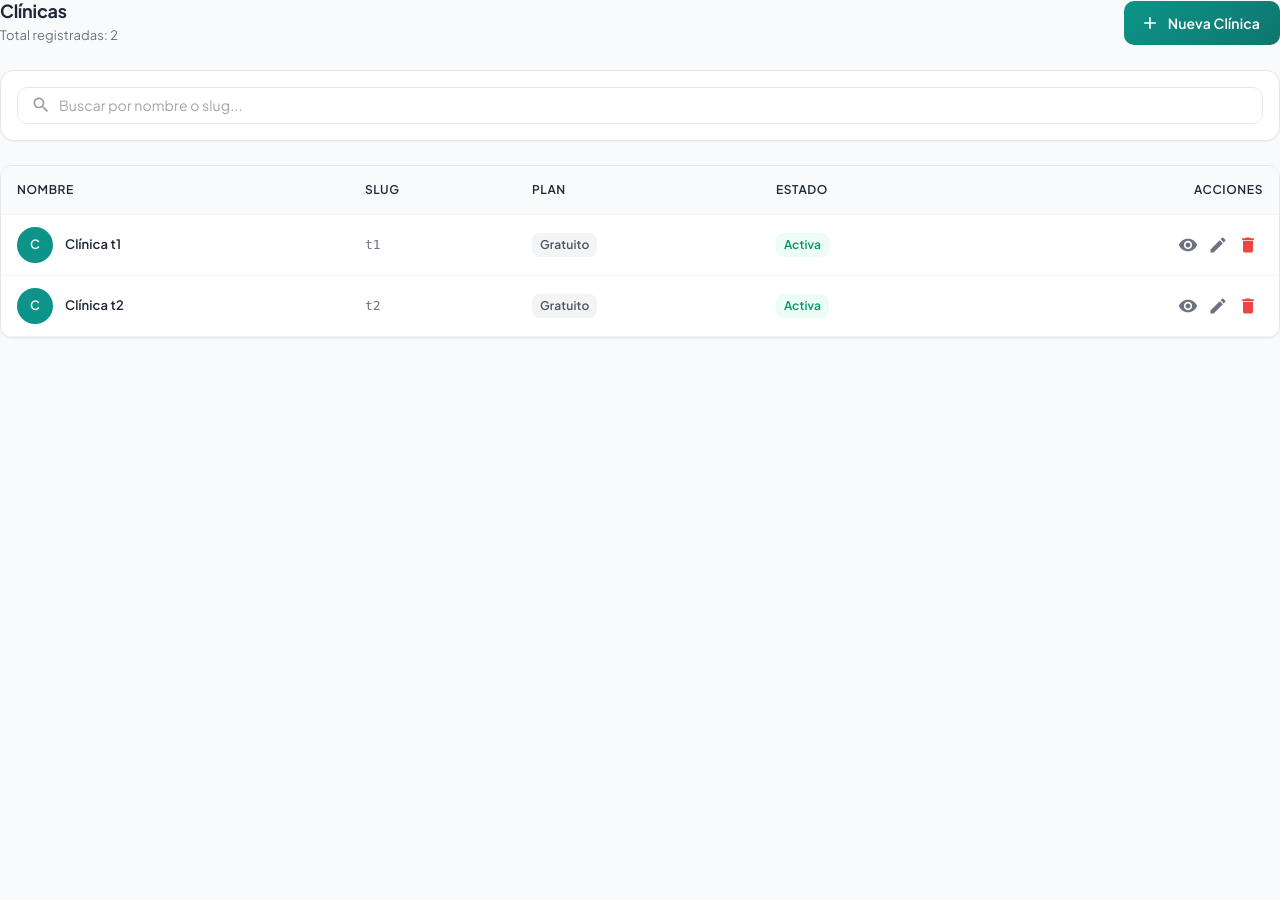
SuperAdminTenantsPage › opens the create dialog from the header button
Click the button "Nueva Clínica" at (1202, 23), box [1124, 1, 1279, 45]
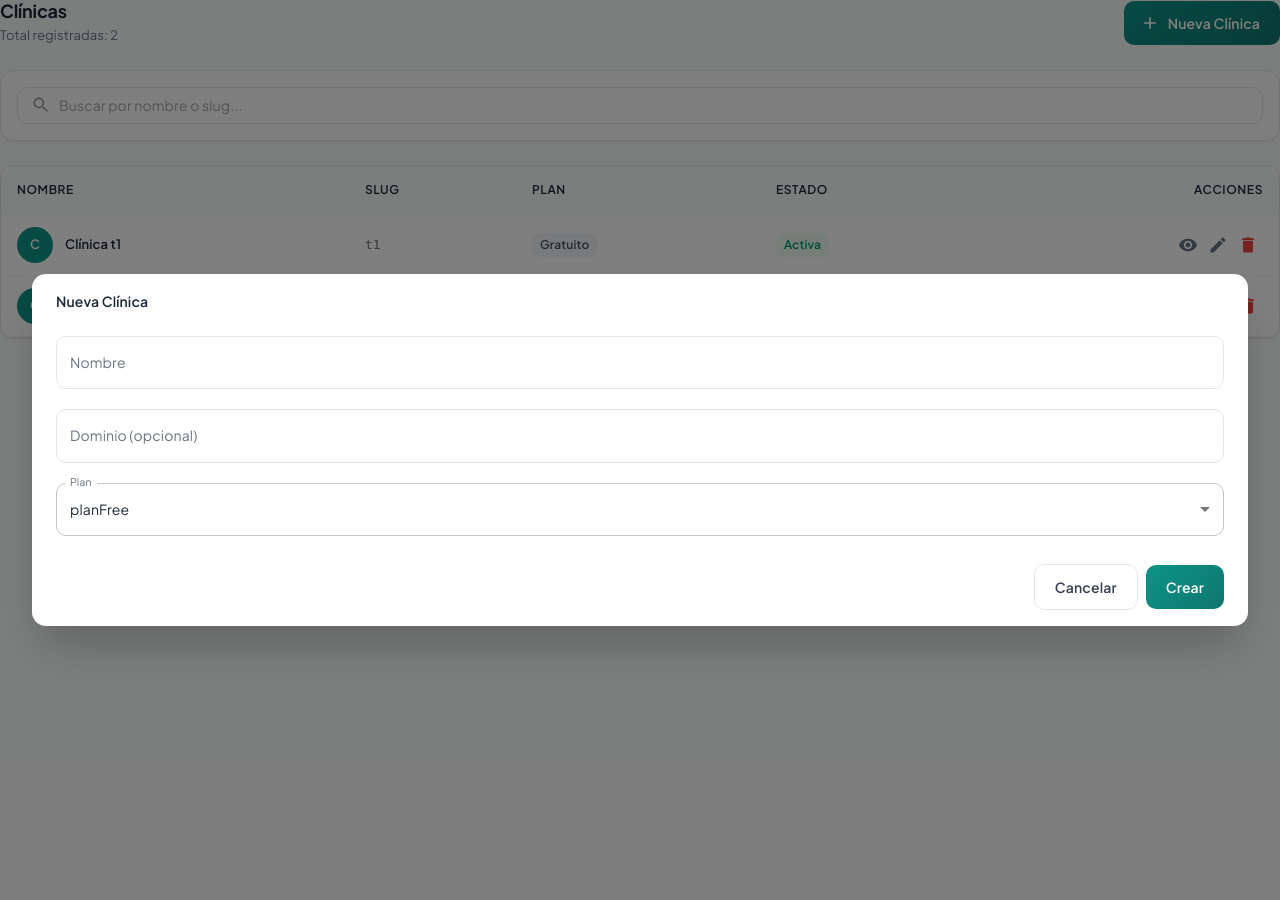
Expected: the heading "Nueva Clínica" is shown, [56, 292, 148, 310]
